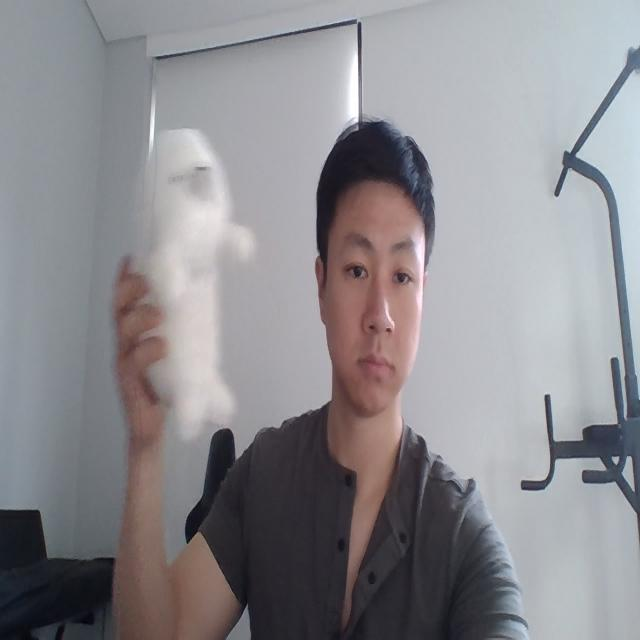seal_bb: (129, 126, 258, 438)
